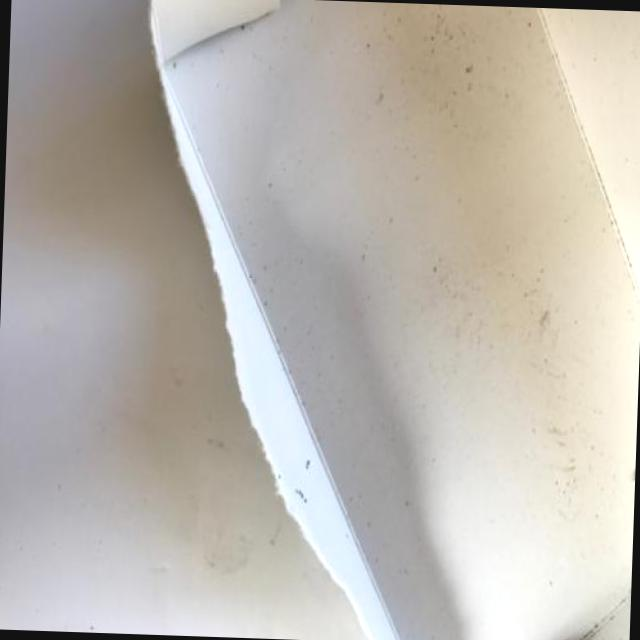paper: (209, 1, 633, 640)
